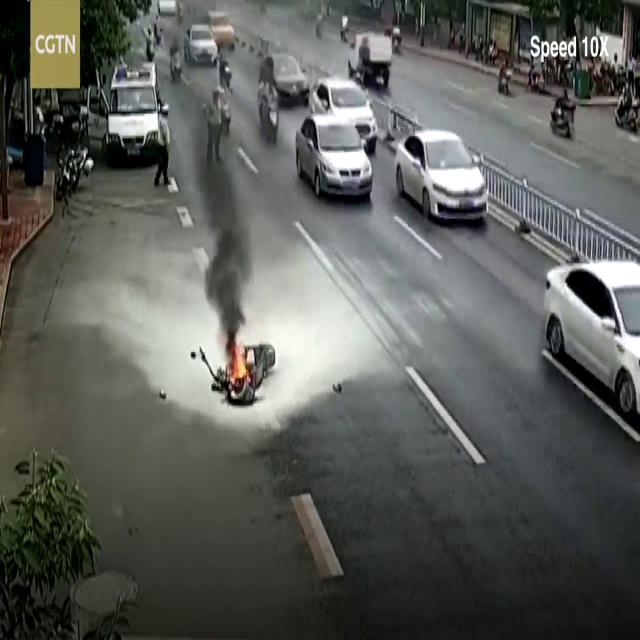Fire: (224, 348, 248, 384)
Smoke: (170, 65, 266, 339)
